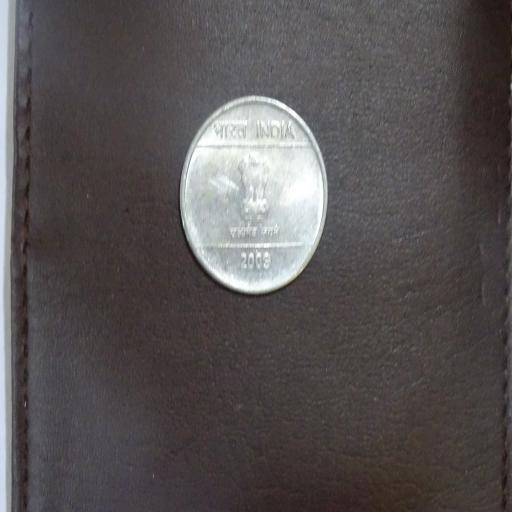rupee1: (179, 97, 330, 294)
